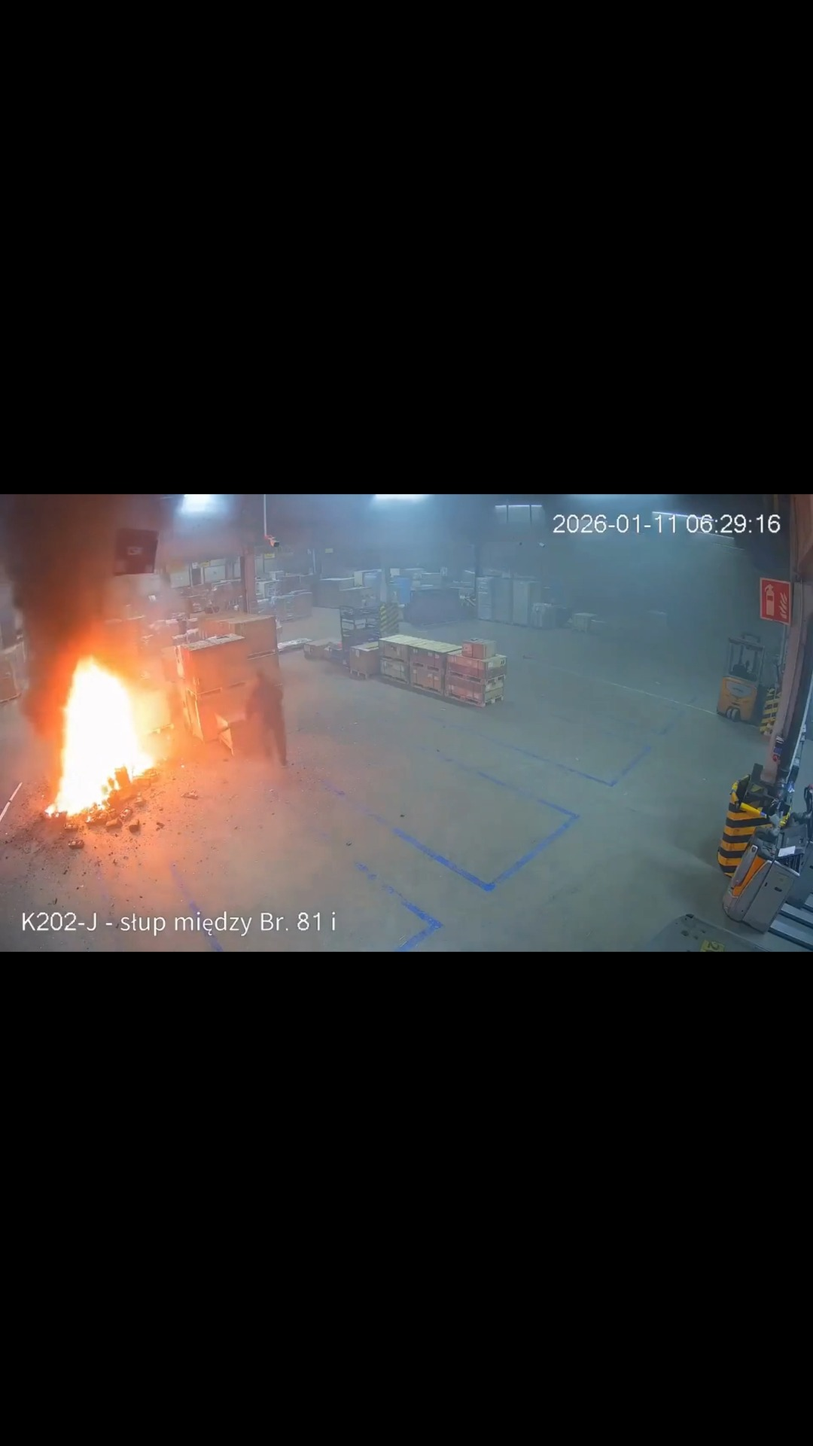fire: (43, 641, 180, 822)
smoke: (0, 496, 175, 671)
